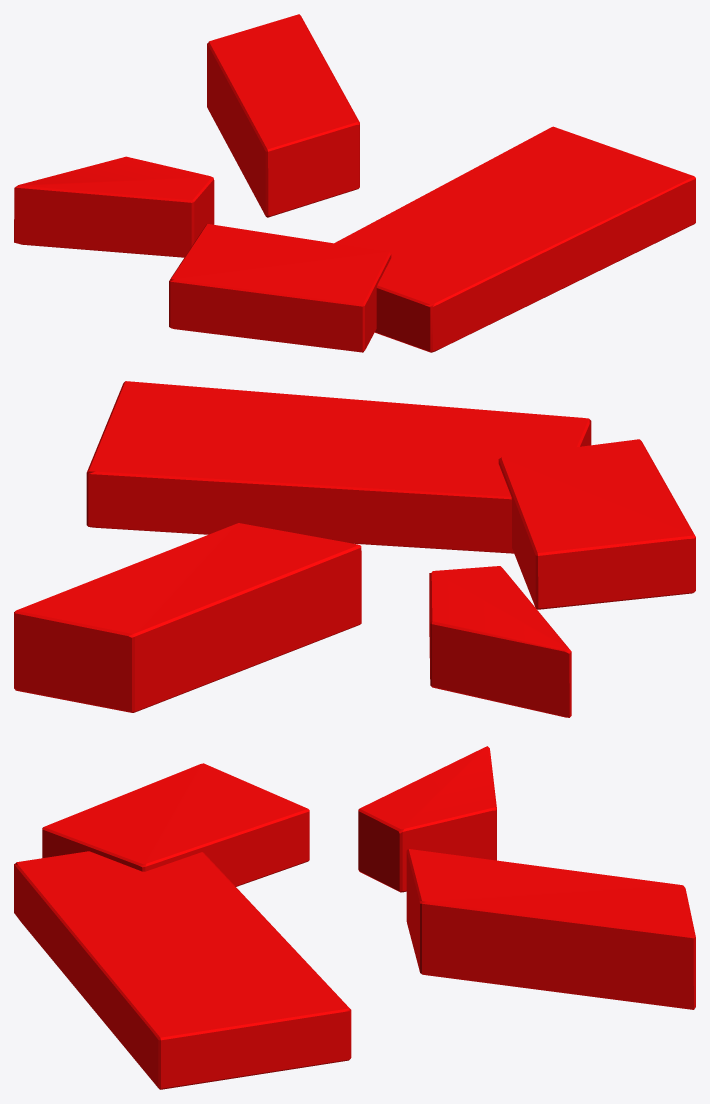
Rendered from Splash_Screen_V4.fbx.
The picture shows the model from 3 angles, top to bottom: view 1: azimuth 30°, elevation 25°; view 2: azimuth 150°, elevation 25°; view 3: azimuth 270°, elevation 25°; orthographic projection. The views are drawn at different scales.
Visible parts, largest first — view 1: polySurface1; view 2: polySurface1; view 3: polySurface1.
Part boxes in pixels (x1,y1,x2,y2): polySurface1: (14,14,695,352); polySurface1: (14,381,695,717); polySurface1: (14,746,695,1089).
Bounding box in the file's own units: 1184 × 147 × 1205.
